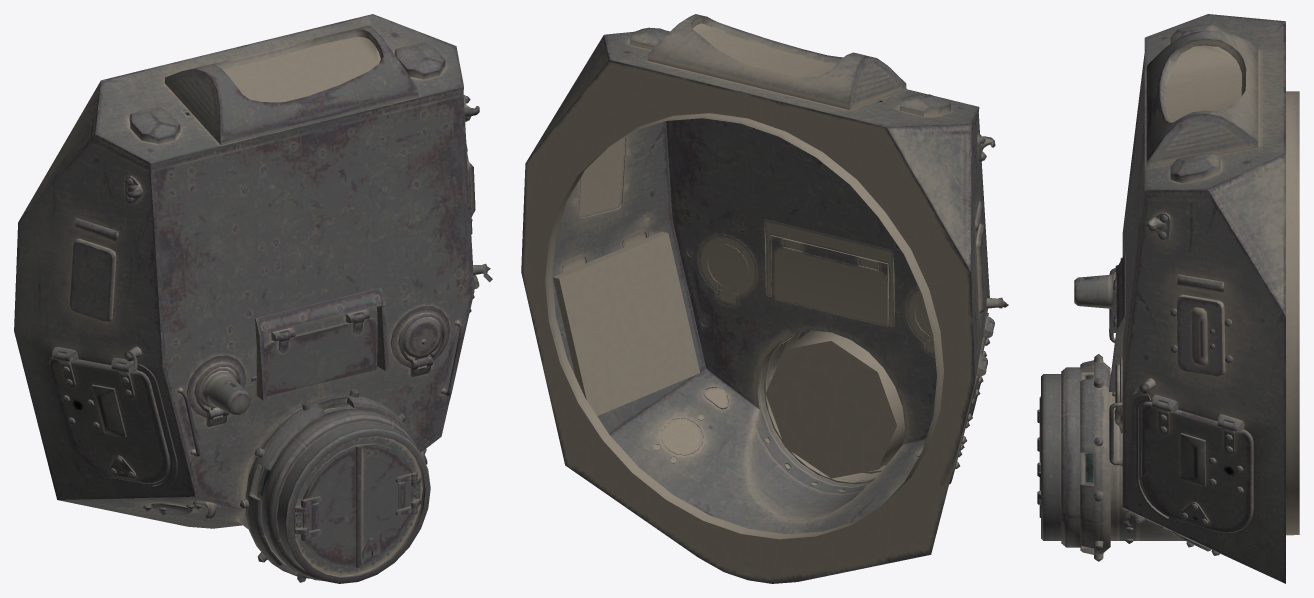
Rendered from Turret_01.glb.
3 renders of one model, left to right at view 1: azimuth 30°, elevation 25°; view 2: azimuth 150°, elevation 25°; view 3: azimuth 270°, elevation 25°, orthographic.
Parts seen in each view (by area): view 1: set_0_group_0; view 2: set_0_group_0; view 3: set_0_group_0.
Boxes of the visible parts, x1,y1,x2,y2 form: set_0_group_0: [14, 14, 492, 583]; set_0_group_0: [521, 14, 1008, 583]; set_0_group_0: [1037, 14, 1299, 583].
Bounding box in the file's own units: 2 × 2.14 × 1.02.
Materials: 1 (1 with a texture image).
